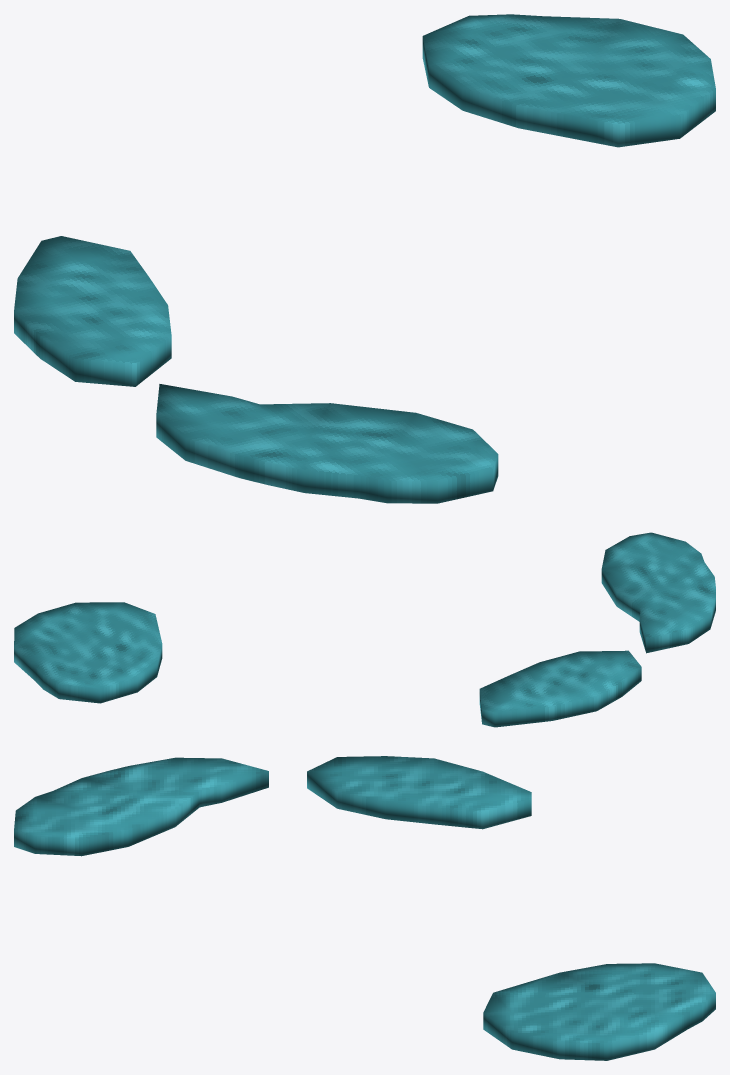
Rendered from rock_kicking_park_lake_player_collision.glb.
3 views of the same model, one above another, from view 1: azimuth 30°, elevation 25°; view 2: azimuth 150°, elevation 25°; view 3: azimuth 270°, elevation 25° (orthographic). The views are drawn at different scales.
Parts seen in each view (by area): view 1: GroundLakesBarrier-colonly; view 2: GroundLakesBarrier-colonly; view 3: GroundLakesBarrier-colonly.
Part boxes in pixels (x1,y1,x2,y2): GroundLakesBarrier-colonly: (14, 14, 715, 503); GroundLakesBarrier-colonly: (14, 532, 715, 727); GroundLakesBarrier-colonly: (14, 756, 715, 1060).
Bounding box in the file's own units: 373 × 10.02 × 384.
1 material, 1 textured.
